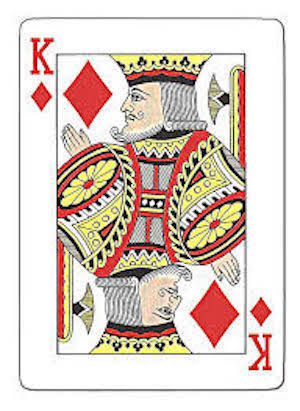KingOfDiamonds: (11, 9, 291, 402)
